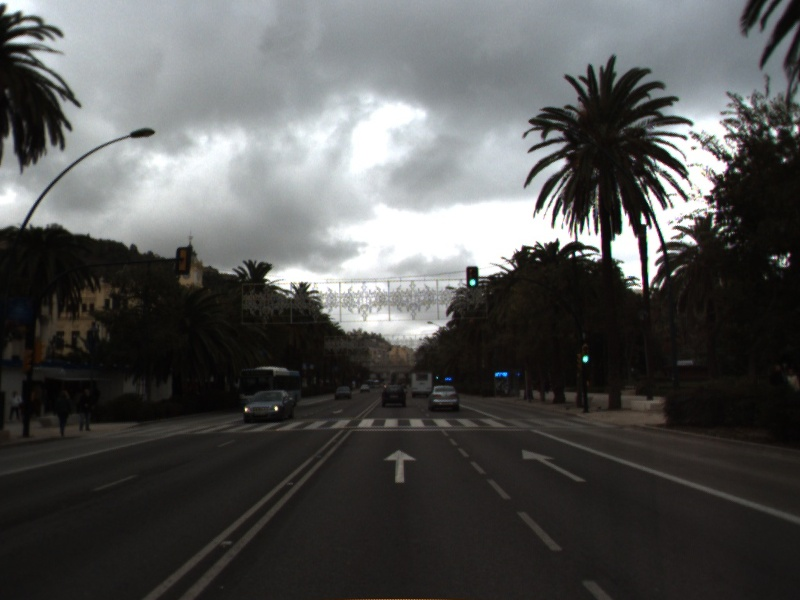STRAIGHT: (519, 447, 589, 484), (381, 447, 419, 485)
